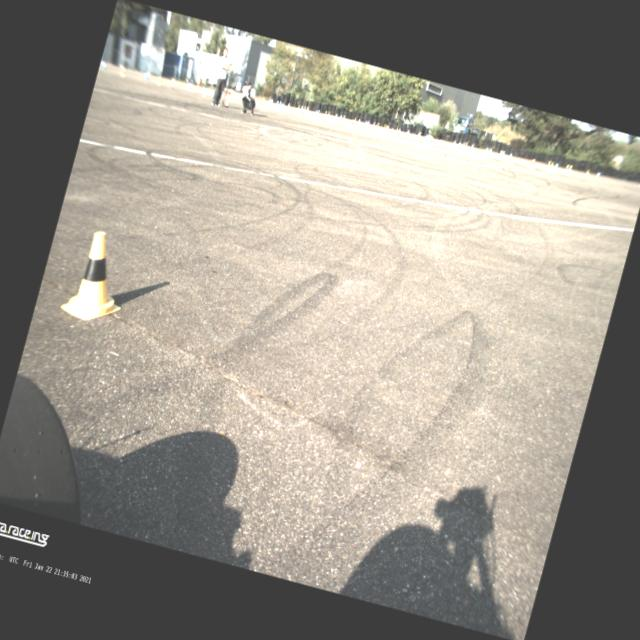yellow_cone: (58, 225, 138, 328)
